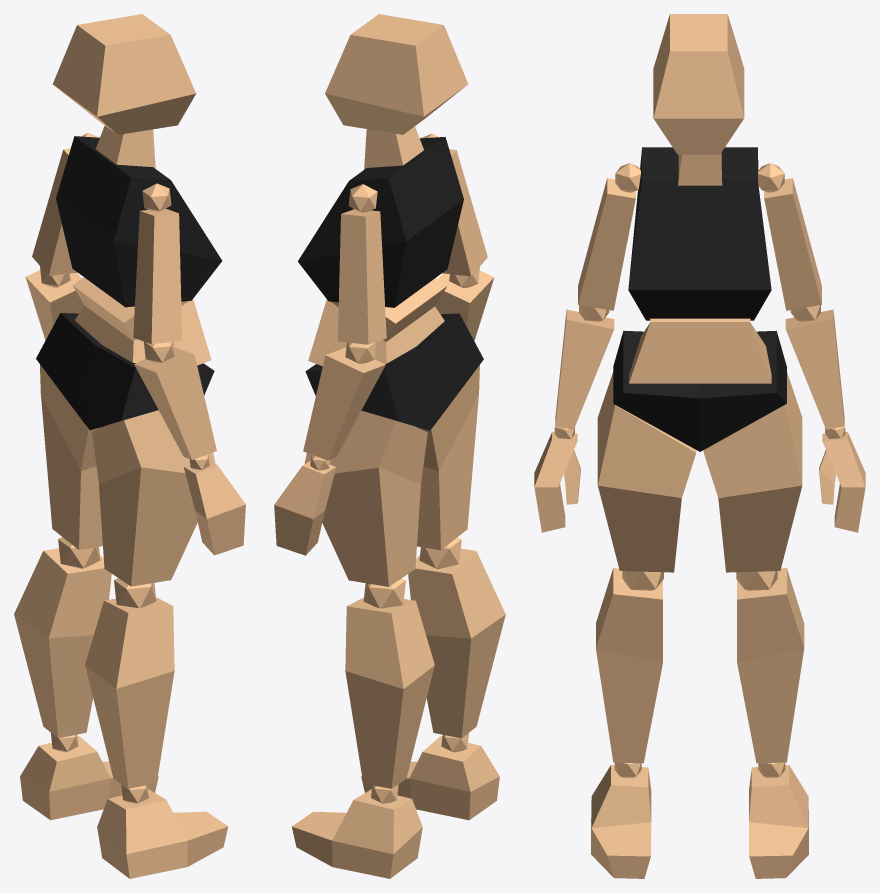
Rendered from Girl_V3.fbx.
3 views of the same model, side by side, from view 1: azimuth 30°, elevation 25°; view 2: azimuth 150°, elevation 25°; view 3: azimuth 270°, elevation 25° (orthographic). The views are drawn at different scales.
Visible parts, largest first — view 1: Thigh_R, Chest, Shin_R, Head, Shin_L, Pelvis, Foot_R, Thigh_L, Upperarm_R, Foot_L, Forearm_R, Belly (+8 smaller); view 2: Thigh_L, Chest, Shin_L, Head, Shin_R, Pelvis, Foot_L, Thigh_R, Upperarm_L, Foot_R, Forearm_L, Belly (+8 smaller); view 3: Chest, Thigh_R, Thigh_L, Head, Shin_L, Shin_R, Pelvis, Belly, Foot_R, Foot_L, Upperarm_L, Upperarm_R (+10 smaller).
Boxes of the visible parts, x1,y1,x2,y2 form: Thigh_R: (92, 410, 215, 586); Chest: (56, 136, 222, 307); Shin_R: (85, 597, 174, 788); Head: (53, 14, 196, 134); Shin_L: (14, 548, 111, 738); Pelvis: (36, 313, 214, 430); Foot_R: (97, 789, 228, 878); Thigh_L: (40, 364, 102, 549); Upperarm_R: (133, 208, 182, 344); Foot_L: (20, 736, 158, 820); Forearm_R: (134, 347, 216, 460); Belly: (72, 277, 211, 365); Thigh_L: (304, 410, 427, 586); Chest: (298, 137, 463, 307); Shin_L: (345, 597, 434, 788); Head: (325, 14, 467, 134); Shin_R: (408, 548, 505, 738); Pelvis: (305, 313, 483, 430); Foot_L: (291, 789, 422, 878); Thigh_R: (417, 365, 479, 550); Upperarm_L: (338, 209, 386, 344); Foot_R: (361, 736, 499, 820); Forearm_L: (303, 347, 385, 460); Belly: (308, 278, 446, 366); Chest: (628, 147, 771, 320); Thigh_R: (597, 372, 696, 572); Thigh_L: (703, 372, 802, 572); Head: (653, 14, 744, 154); Shin_L: (737, 568, 804, 763); Shin_R: (596, 568, 662, 763); Pelvis: (613, 330, 786, 451); Belly: (629, 318, 771, 383); Foot_R: (591, 765, 651, 878); Foot_L: (749, 765, 808, 878); Upperarm_L: (764, 178, 821, 310); Upperarm_R: (578, 178, 635, 310).
Size of the model in its own units: 27.29 by 172 by 62.9.
